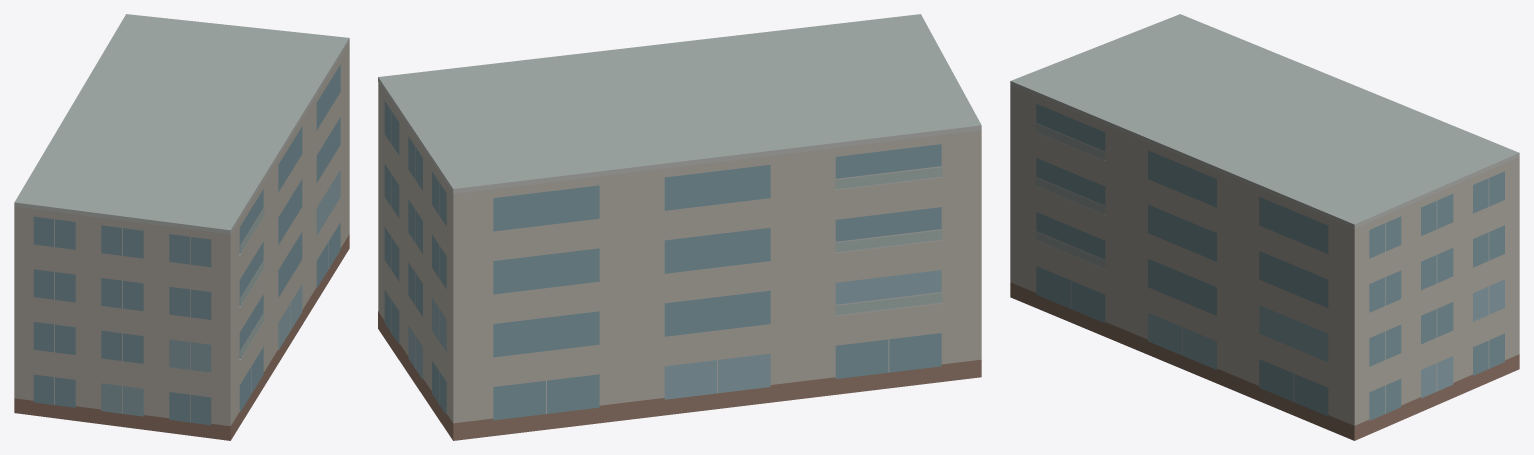
File: survey-upis-32919430.glb
3 views of the same model, side by side, from view 1: azimuth 30°, elevation 25°; view 2: azimuth 150°, elevation 25°; view 3: azimuth 270°, elevation 25° (orthographic). The views are drawn at different scales.
Visible parts, largest first — view 1: survey-upis-32919430.tmp; view 2: survey-upis-32919430.tmp; view 3: survey-upis-32919430.tmp.
Boxes of the visible parts, bbox=[...] form: survey-upis-32919430.tmp: bbox=[14, 14, 349, 440]; survey-upis-32919430.tmp: bbox=[378, 14, 981, 440]; survey-upis-32919430.tmp: bbox=[1010, 14, 1519, 440].
Size of the model in its own units: 25.88 by 12.4 by 26.44.
